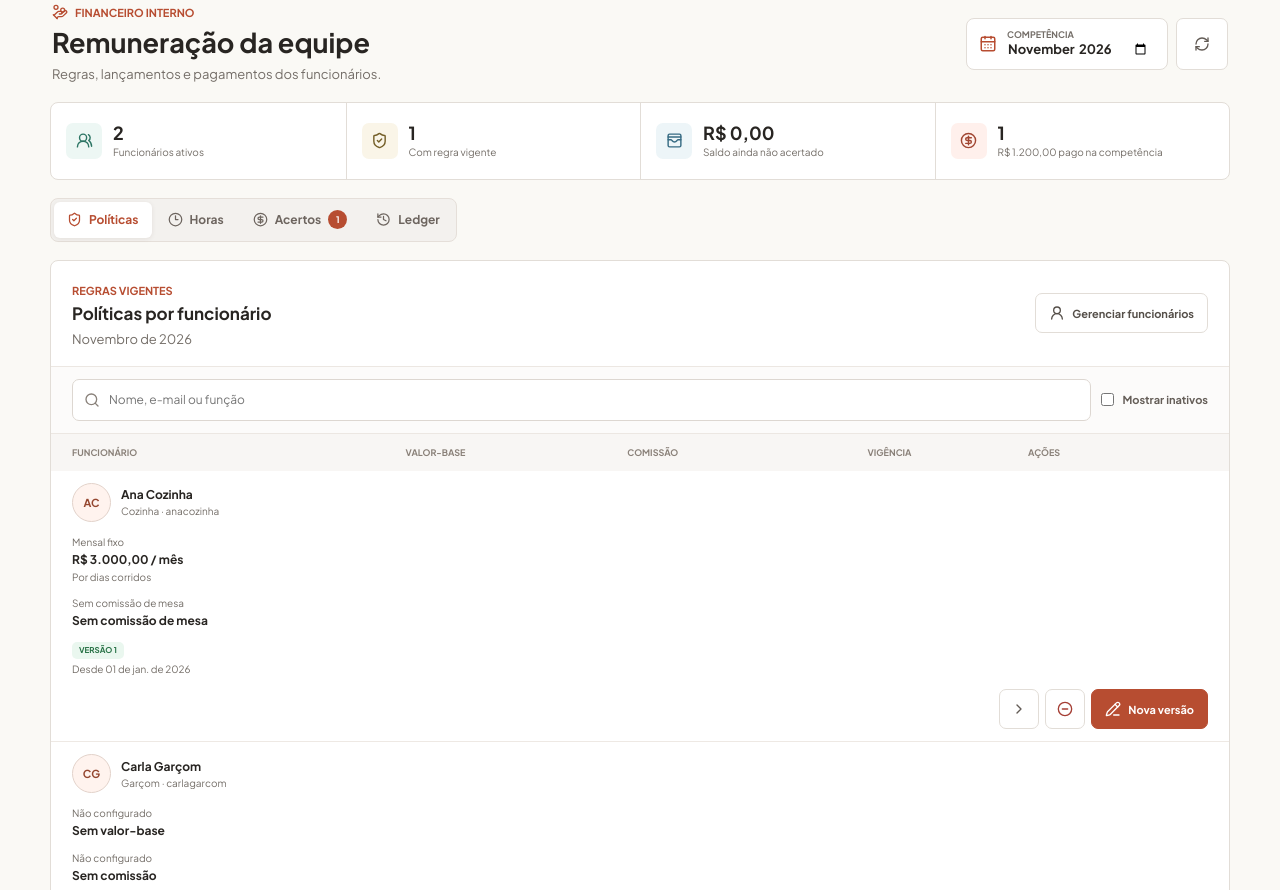
it: remuneração dos funcionários › abre um pagamento parcial somente com o saldo restante do acerto
The image size is (1280, 890).
Click the tab "Acertos 1": {"x": 300, "y": 220} [240,202,360,238]
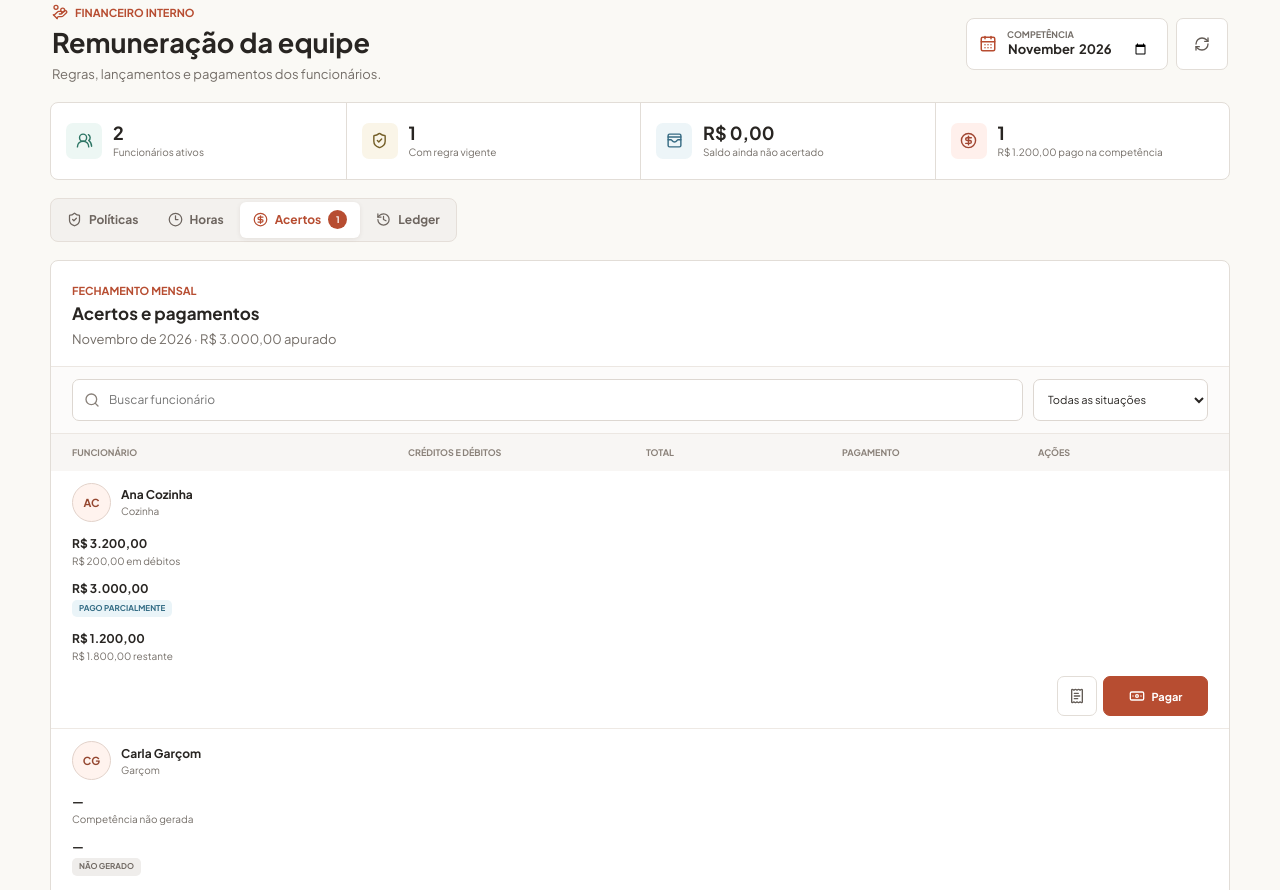
Click the button "Pagar": {"x": 1156, "y": 696} [1103,676,1208,716]
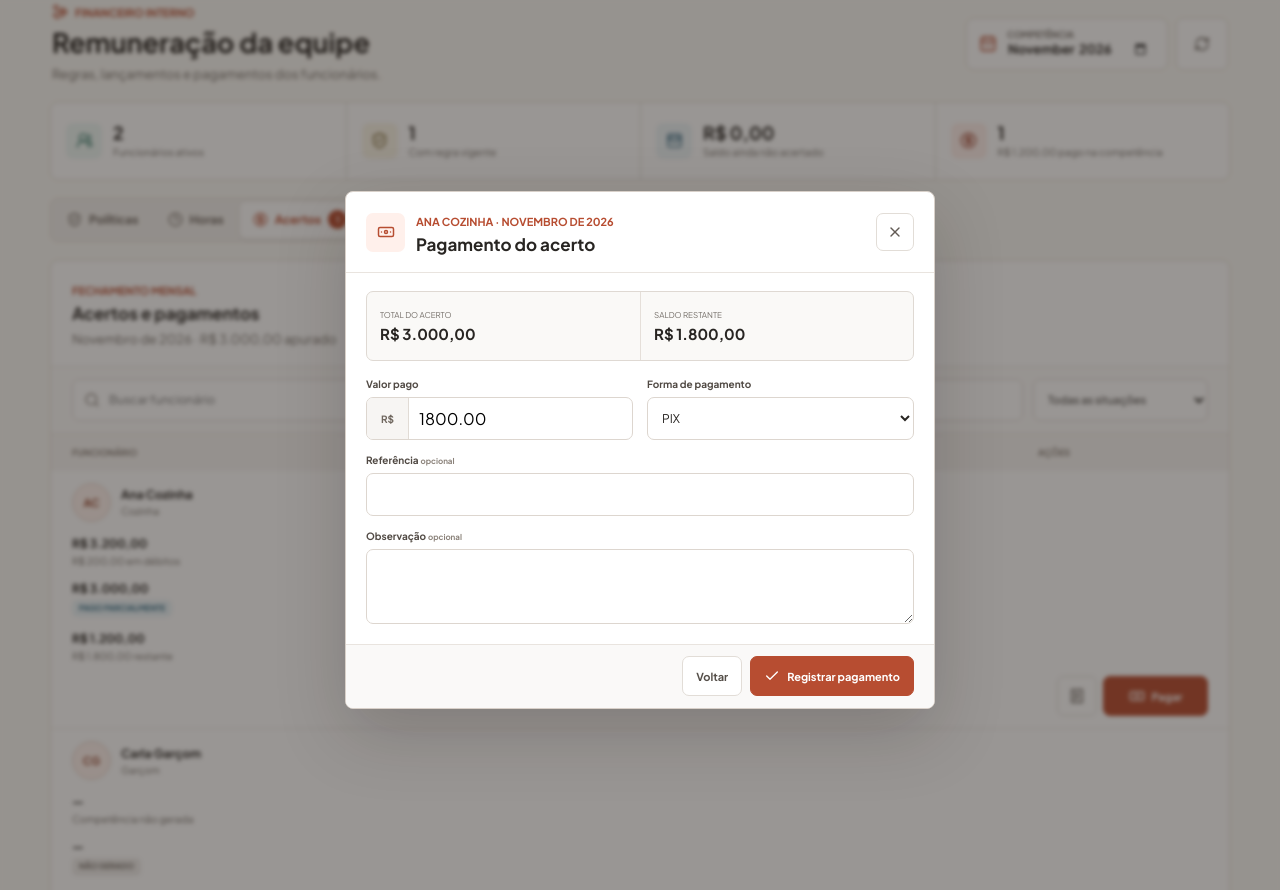
Expected: the dialog shows "Pagamento do acerto", [416,233,595,255]
Expected: the field named "Valor pago" holds "1800.00", [409,408,632,429]
Expected: the dialog shows "R$ 1.800,00", [654,324,745,343]
